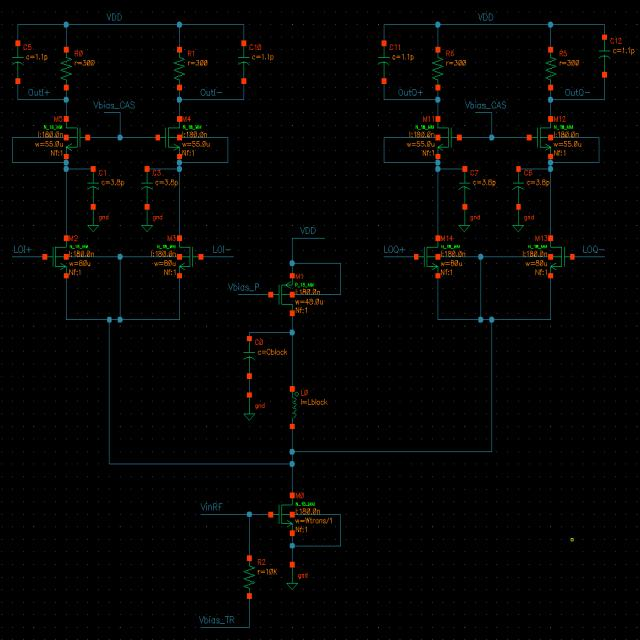cap: (373, 38, 393, 86), (596, 31, 613, 80), (508, 165, 526, 211), (86, 167, 104, 212), (234, 40, 252, 83), (455, 167, 473, 210), (240, 336, 258, 378), (138, 166, 154, 213), (10, 40, 26, 85)
inductor: (287, 386, 299, 430)
nmos: (174, 234, 204, 281), (62, 114, 91, 162), (546, 233, 574, 282), (267, 491, 296, 538), (42, 234, 70, 280), (413, 235, 441, 281), (527, 116, 554, 162), (434, 114, 462, 158), (156, 116, 183, 160)
pmos: (269, 272, 296, 319)
res: (238, 554, 258, 602), (427, 46, 446, 92), (170, 46, 188, 92), (543, 45, 559, 93), (58, 47, 74, 91)
